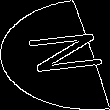N_E: (8, 31, 102, 79)
